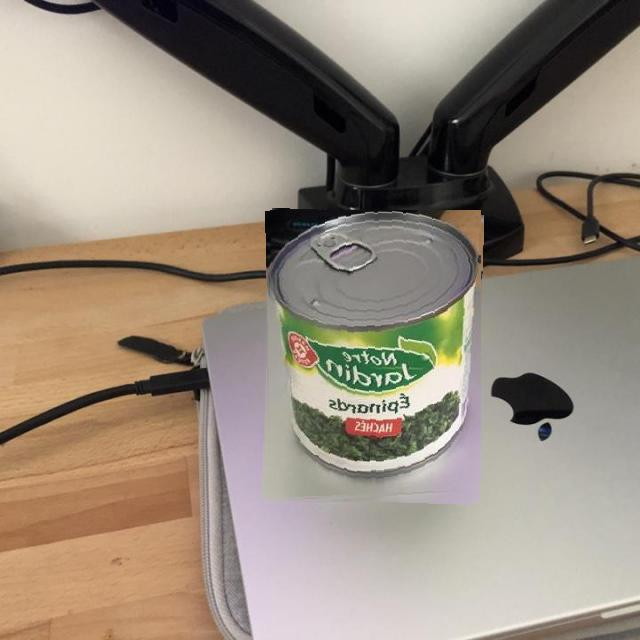recyclable: (264, 210, 482, 505)
